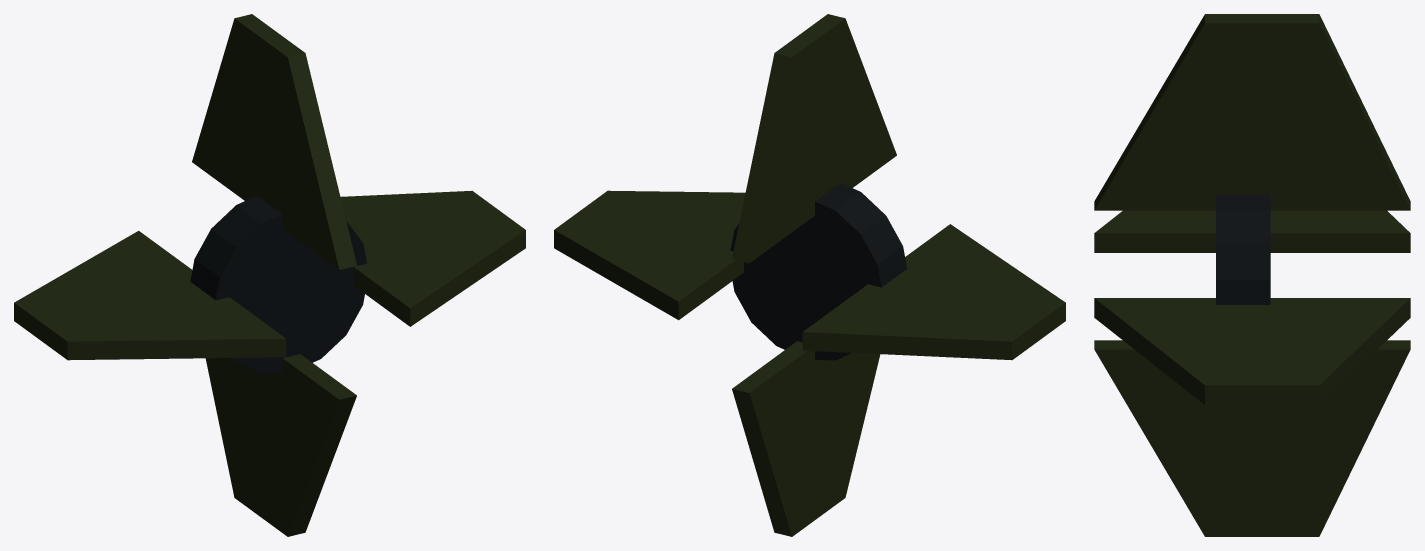
Rendered from BombMedium__Tail.obj.
3 renders of one model, left to right at view 1: azimuth 30°, elevation 25°; view 2: azimuth 150°, elevation 25°; view 3: azimuth 270°, elevation 25°, orthographic. The views are drawn at different scales.
Parts seen in each view (by area): view 1: Tail_stabilizer.001, Tail_stabilizer.002, Tail_stabilizer.003, Tail_collar, Tail_stabilizer; view 2: Tail_stabilizer.001, Tail_stabilizer.002, Tail_stabilizer.003, Tail_stabilizer, Tail_collar; view 3: Tail_stabilizer.001, Tail_stabilizer.003, Tail_stabilizer, Tail_stabilizer.002, Tail_collar.
Boxes of the visible parts, <box> form: Tail_stabilizer.001: <box>192,14,356,269</box>; Tail_stabilizer.002: <box>14,230,286,360</box>; Tail_stabilizer.003: <box>205,354,356,536</box>; Tail_collar: <box>190,195,367,373</box>; Tail_stabilizer: <box>340,190,525,326</box>; Tail_stabilizer.001: <box>732,14,896,263</box>; Tail_stabilizer.002: <box>802,224,1065,360</box>; Tail_stabilizer.003: <box>732,341,880,536</box>; Tail_stabilizer: <box>554,190,745,320</box>; Tail_collar: <box>730,183,907,360</box>; Tail_stabilizer.001: <box>1094,14,1410,210</box>; Tail_stabilizer.003: <box>1094,340,1410,536</box>; Tail_stabilizer: <box>1094,298,1410,405</box>; Tail_stabilizer.002: <box>1094,210,1410,252</box>; Tail_collar: <box>1216,195,1270,304</box>.
Size of the model in its own units: 0.932 by 0.932 by 0.52.
